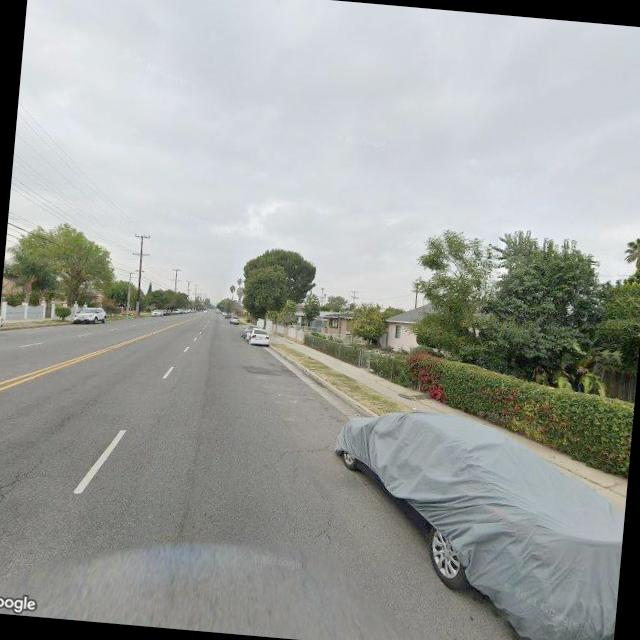crack: (0, 399, 85, 538)
